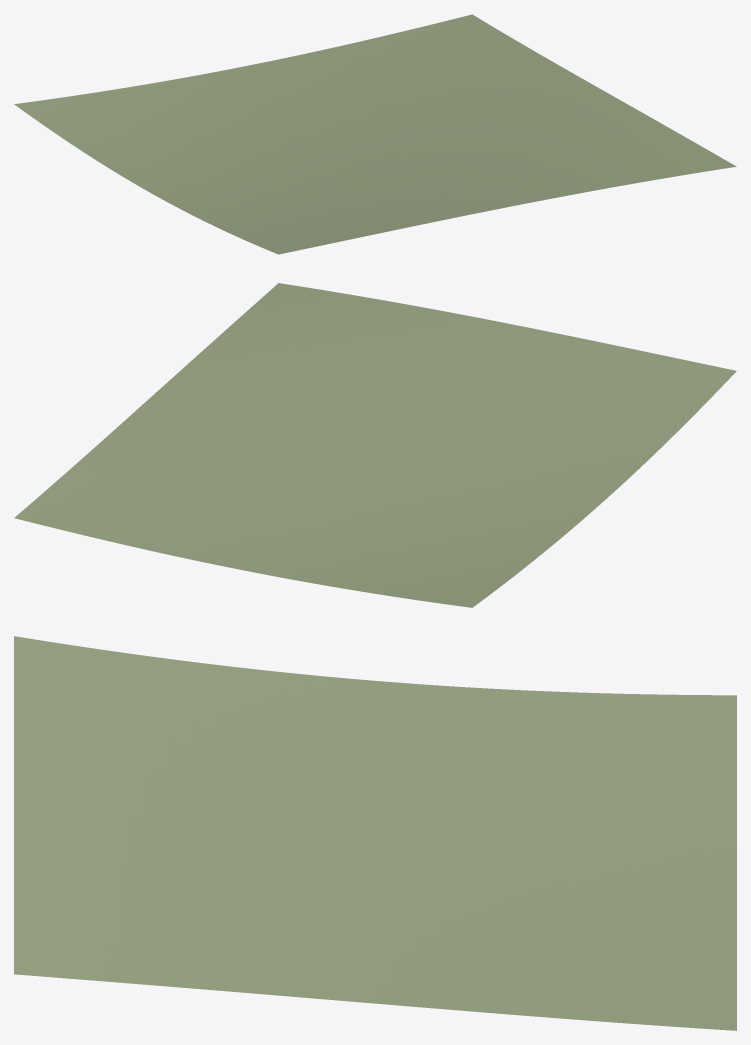
The model's file is alpine-15-4.glb.
3 renders of one model, top to bottom at view 1: azimuth 30°, elevation 25°; view 2: azimuth 150°, elevation 25°; view 3: azimuth 270°, elevation 25°, orthographic. The views are drawn at different scales.
Parts seen in each view (by area): view 1: alpine-15-4; view 2: alpine-15-4; view 3: alpine-15-4.
Part boxes in pixels (x1=…): alpine-15-4: x1=14, y1=14, x2=736, y2=254; alpine-15-4: x1=14, y1=283, x2=736, y2=607; alpine-15-4: x1=14, y1=636, x2=736, y2=1030.
Size of the model in its own units: 256 by 34.98 by 256.
